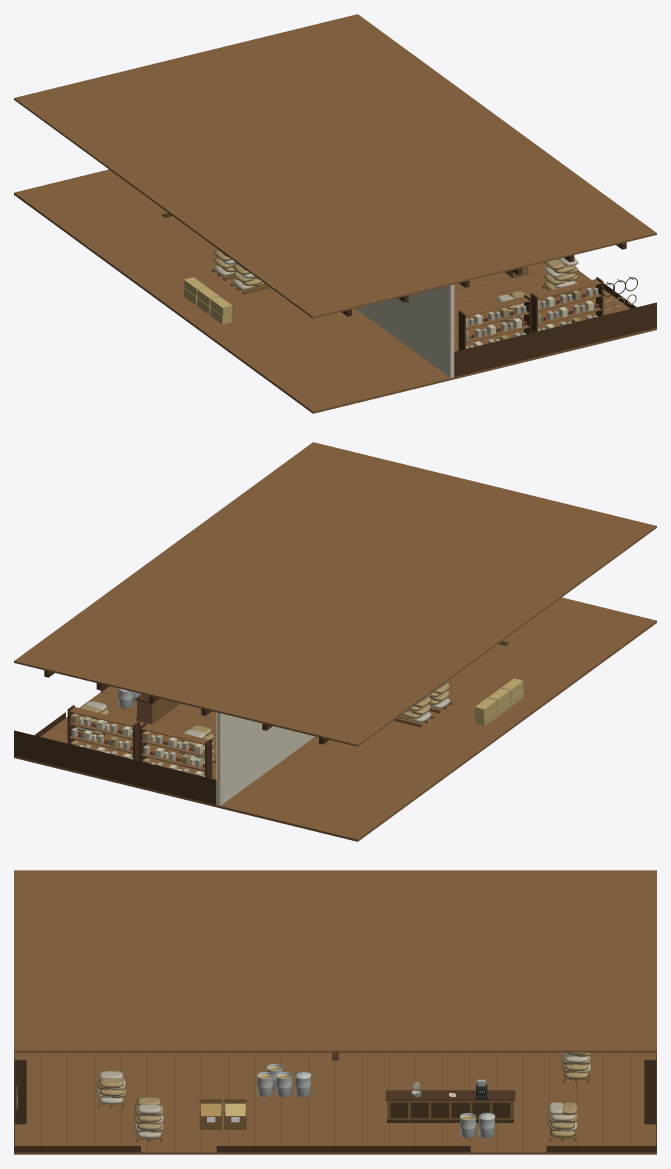
Rendered from SM_Town_Feed_Interior.fbx.
3 renders of one model, top to bottom at view 1: azimuth 30°, elevation 25°; view 2: azimuth 150°, elevation 25°; view 3: azimuth 270°, elevation 25°, orthographic. The views are drawn at different scales.
Visible parts, largest first — view 1: SM_Town_Feed_Interior; view 2: SM_Town_Feed_Interior; view 3: SM_Town_Feed_Interior.
Part boxes in pixels (box(x1,y1,x2,y2)): SM_Town_Feed_Interior: box(14, 14, 656, 413); SM_Town_Feed_Interior: box(14, 442, 656, 841); SM_Town_Feed_Interior: box(14, 870, 656, 1154).
Bounding box in the file's own units: 15.78 × 23.78 × 4.25.
